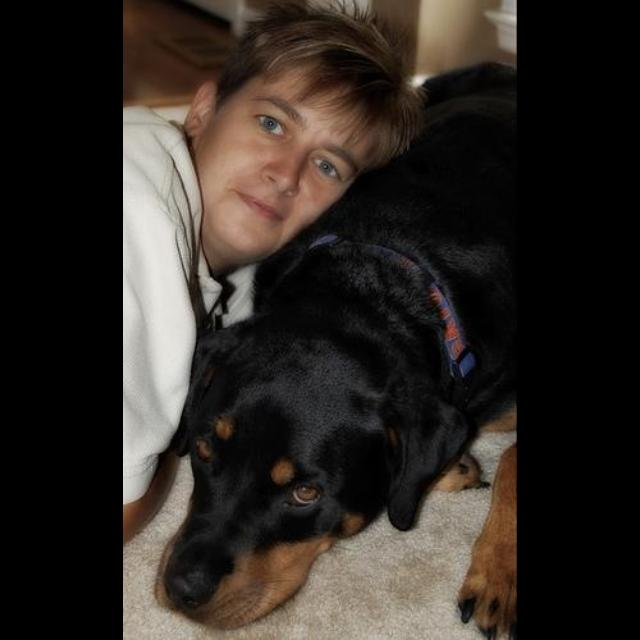face: (196, 68, 367, 265)
person: (125, 18, 420, 551)
rottweiler: (155, 61, 517, 640)
